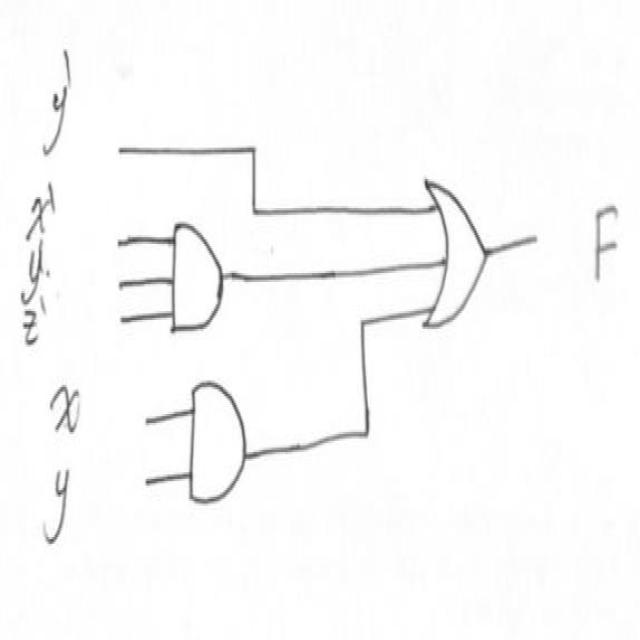AND: (164, 208, 241, 351), (186, 368, 252, 526)
OR: (423, 156, 494, 352)
